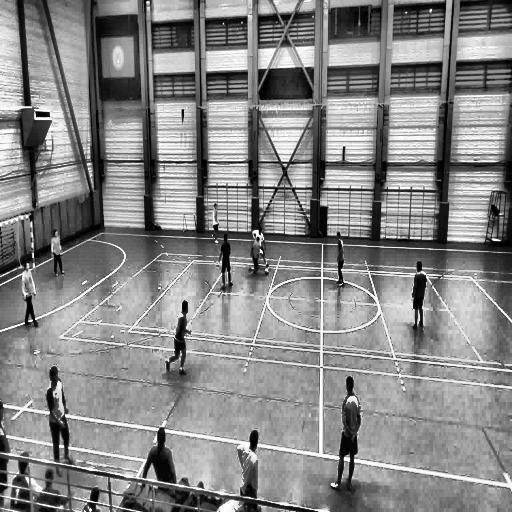ball: (265, 268, 268, 274)
player: (328, 375, 361, 491), (46, 367, 70, 470), (167, 299, 192, 375), (237, 430, 259, 511), (20, 261, 40, 326), (411, 260, 426, 330), (249, 228, 270, 275), (218, 233, 232, 292), (250, 237, 266, 278), (52, 230, 66, 276), (335, 233, 344, 288), (212, 204, 220, 242)
